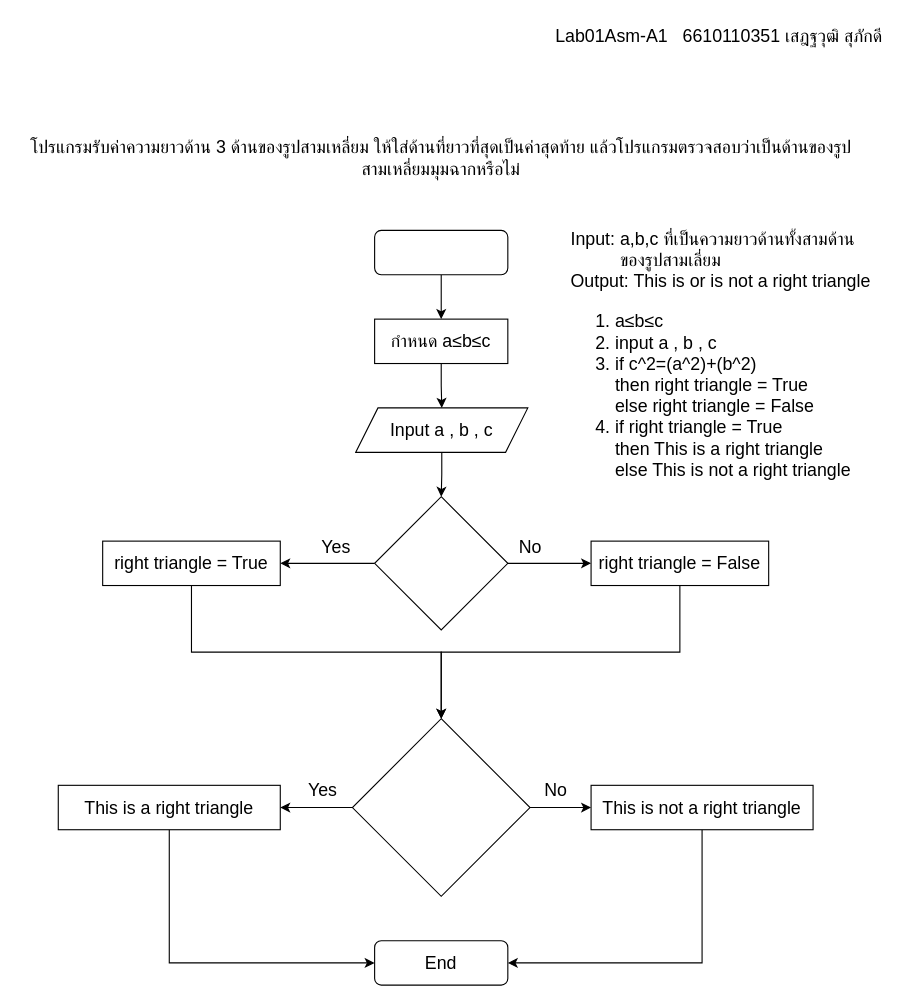
The diagram is 920 pixels wide and 1005 high, and some of its shapes have lost their labels. Each missing label, with the centre of its shape:
"c^2=(a^2)+(b^2)" belongs at (441,563).
"right triangle = True ?" belongs at (440,807).
"Start" belongs at (441,252).
